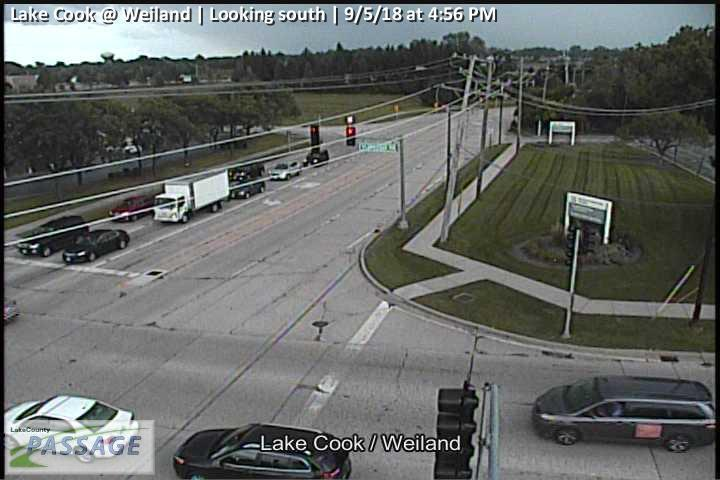SUV: (532, 375, 716, 452), (173, 424, 352, 480), (18, 215, 89, 256), (229, 160, 264, 181), (270, 159, 300, 180), (304, 151, 329, 166)
Sedan: (4, 395, 139, 463), (63, 230, 129, 263), (108, 194, 159, 221), (231, 177, 266, 198)
Truck: (155, 168, 229, 223)
